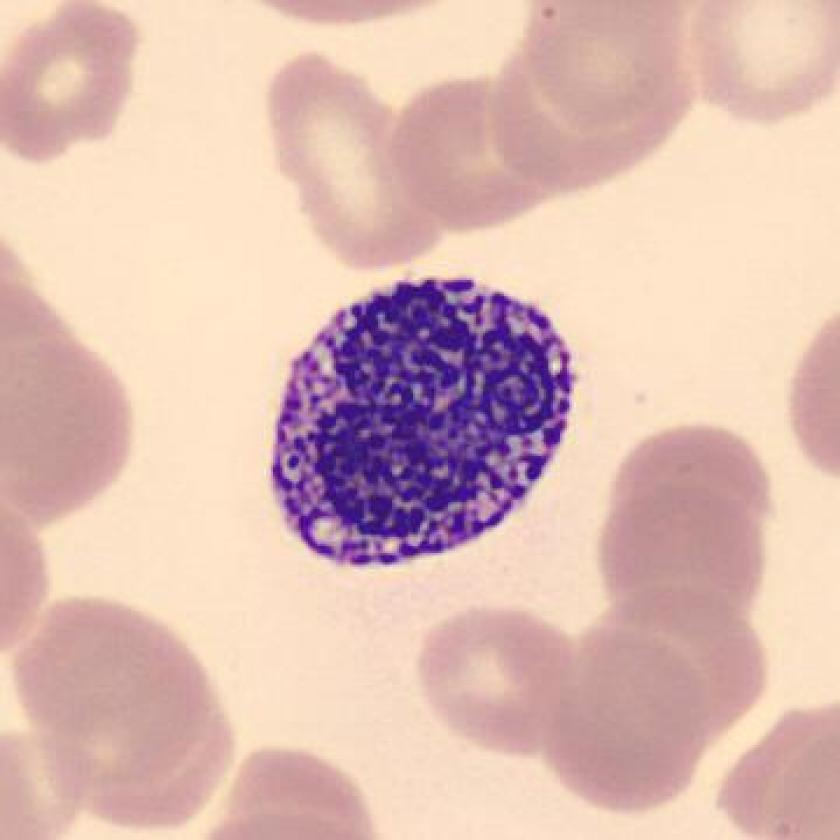basophil: (255, 265, 587, 579)
